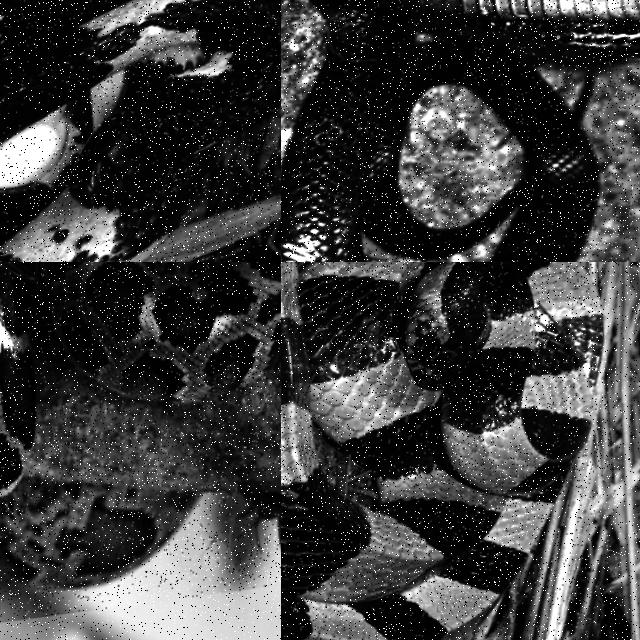Bungarus fasciatus: (281, 262, 602, 639)
Naja kaouthia: (281, 0, 639, 261)
Naja siamensis: (0, 0, 280, 261)
Python bivittatus: (0, 262, 280, 586)
snake: (281, 262, 602, 639), (281, 0, 639, 261), (0, 262, 280, 586), (0, 0, 280, 261)
